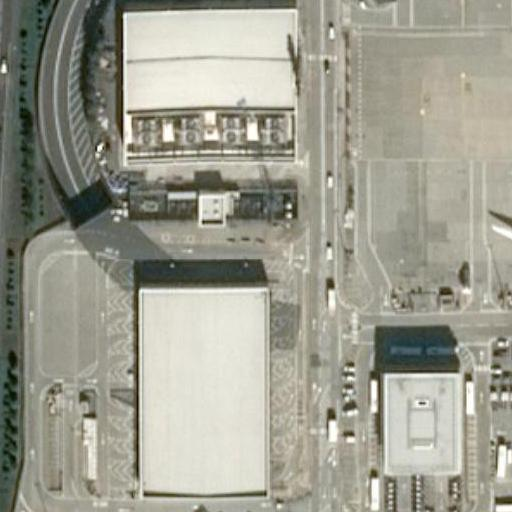Aircraft: (488, 177, 512, 289), (409, 0, 507, 3)
